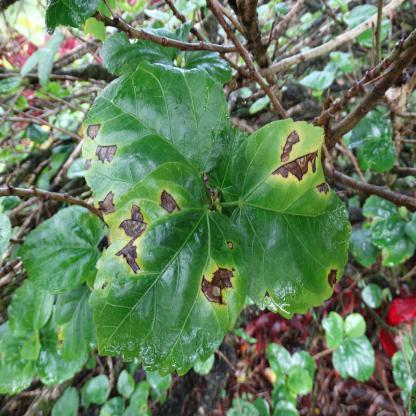tomato septoria leaf spot: (88, 171, 249, 375), (232, 116, 356, 312)
